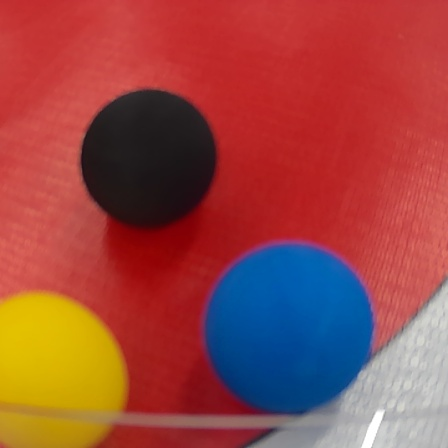black: (75, 85, 217, 228)
blue: (208, 248, 378, 412)
red_base: (1, 1, 448, 448)
yellow: (1, 288, 131, 447)
